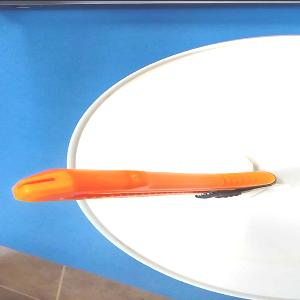estilete: (12, 167, 278, 201)
